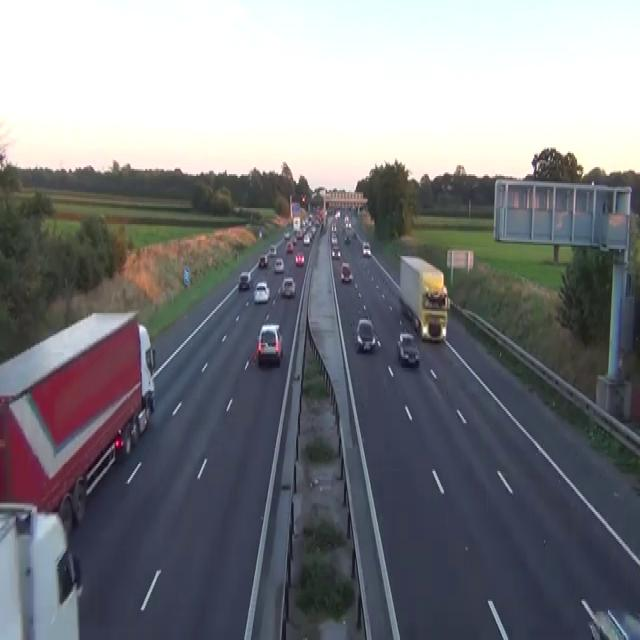Car: (587, 606, 639, 638), (254, 324, 282, 364), (397, 331, 420, 366), (355, 318, 375, 352), (253, 281, 270, 304), (281, 275, 295, 297), (399, 299, 413, 320), (340, 261, 353, 283), (238, 270, 251, 290), (274, 256, 284, 272), (362, 240, 371, 256), (294, 251, 304, 265), (258, 252, 268, 266), (331, 245, 340, 258), (285, 240, 293, 252), (269, 244, 276, 256), (303, 233, 310, 245), (296, 228, 303, 238), (331, 235, 338, 245), (233, 204, 240, 213), (344, 233, 350, 243), (283, 230, 290, 238), (291, 237, 297, 246), (331, 222, 337, 231), (313, 217, 319, 226), (334, 210, 340, 218), (301, 194, 306, 202), (258, 230, 262, 238)
Truck: (0, 308, 156, 530), (0, 500, 83, 638), (399, 255, 449, 342)
